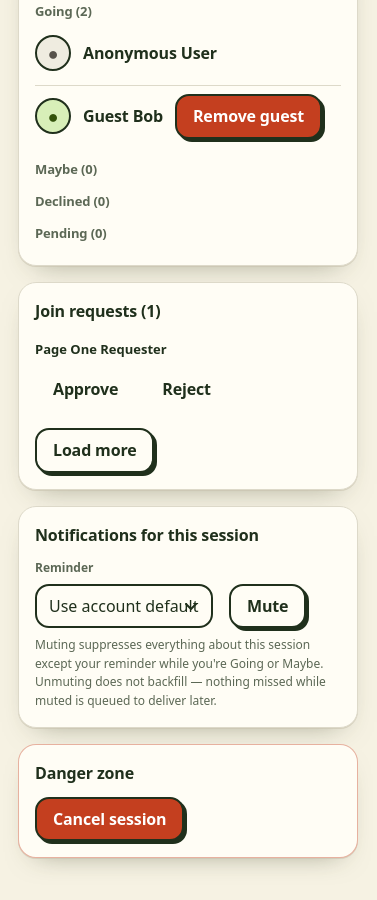
Test: SessionDetailPage (lovable) › pending/error state sweep (frontend audit 2026-08-15 Wave 6) › threads the join-requests cursor and reveals a Load more control instead of stranding the organizer on page one (frontend audit 2026-08-15 Wave 7)
(page scrolled)
Check: the text "Page One Requester" is shown, box left=35, top=339, right=167, bottom=359
Check: the text "Page Two Requester" is not shown
Click the button "Load more".
click(95, 450)  # box left=35, top=428, right=154, bottom=473
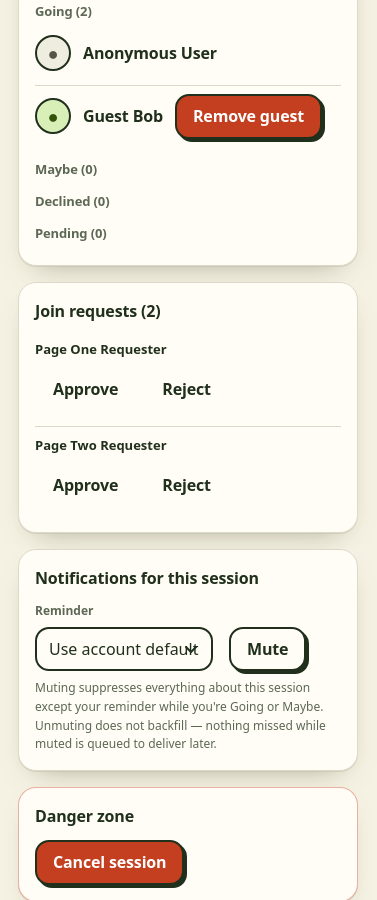
Check: the text "Page Two Requester" is shown, box left=35, top=435, right=166, bottom=455
Check: the button "Load more" is gone
